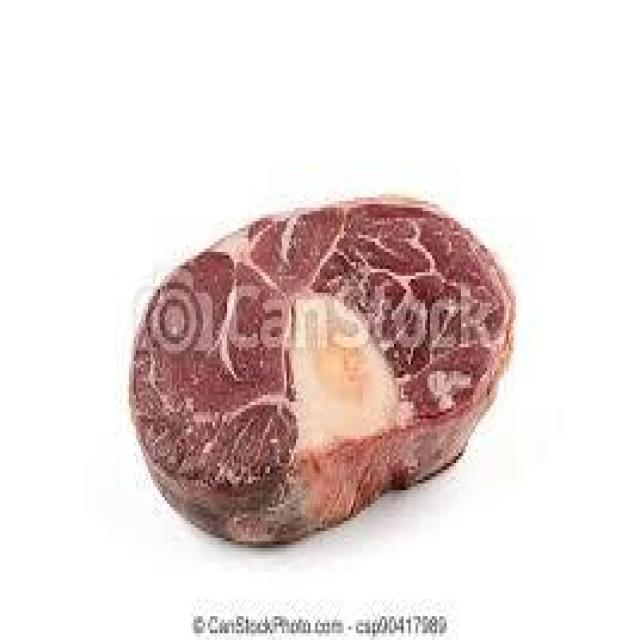beef: (130, 358, 498, 558)
